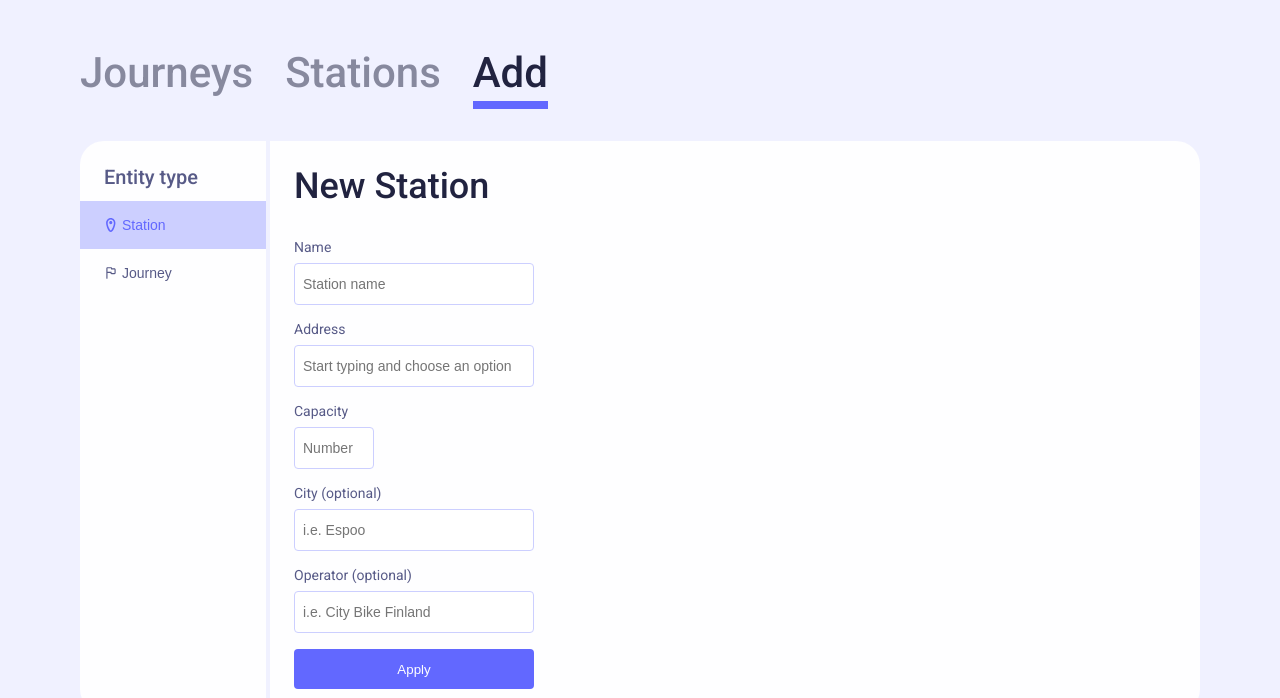
New Station Form › errors if user has entered the address but did not select an option from autocomplete
Type "Test station" into the field with test id "input-name". click: (414, 284)
box: [294,263,534,305]
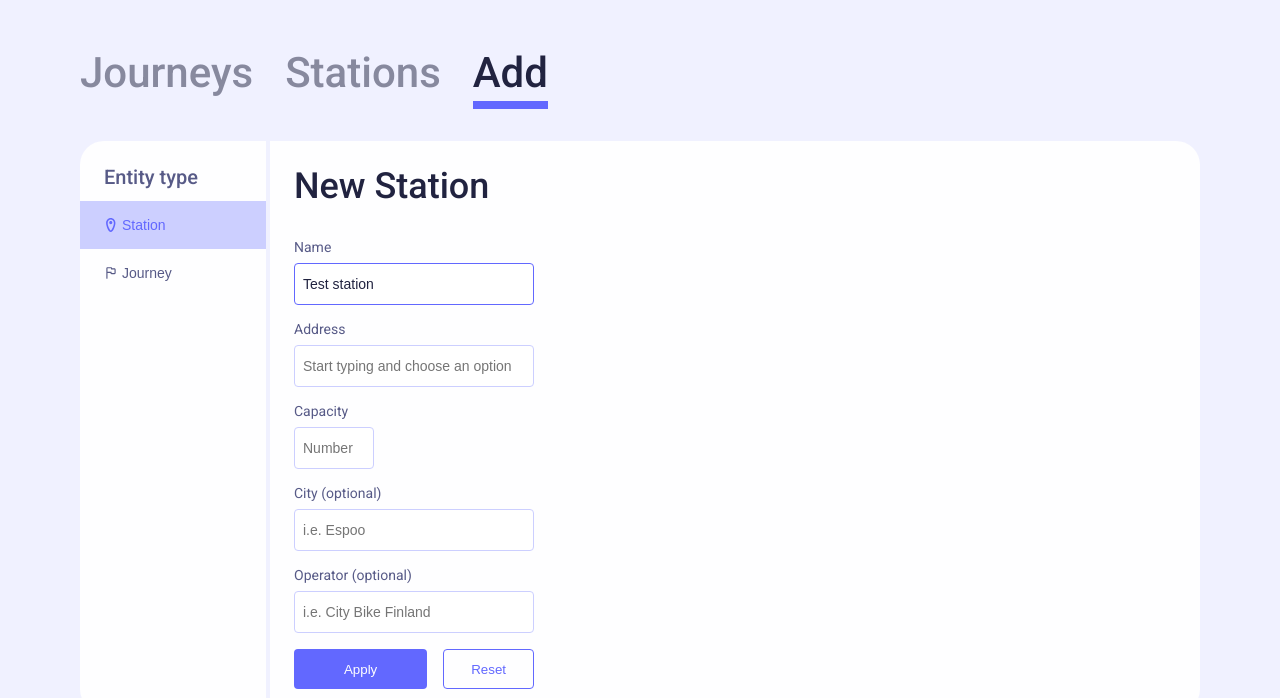
Type "12" into the field with test id "input-capacity". click: (334, 448)
box: [294,427,374,469]
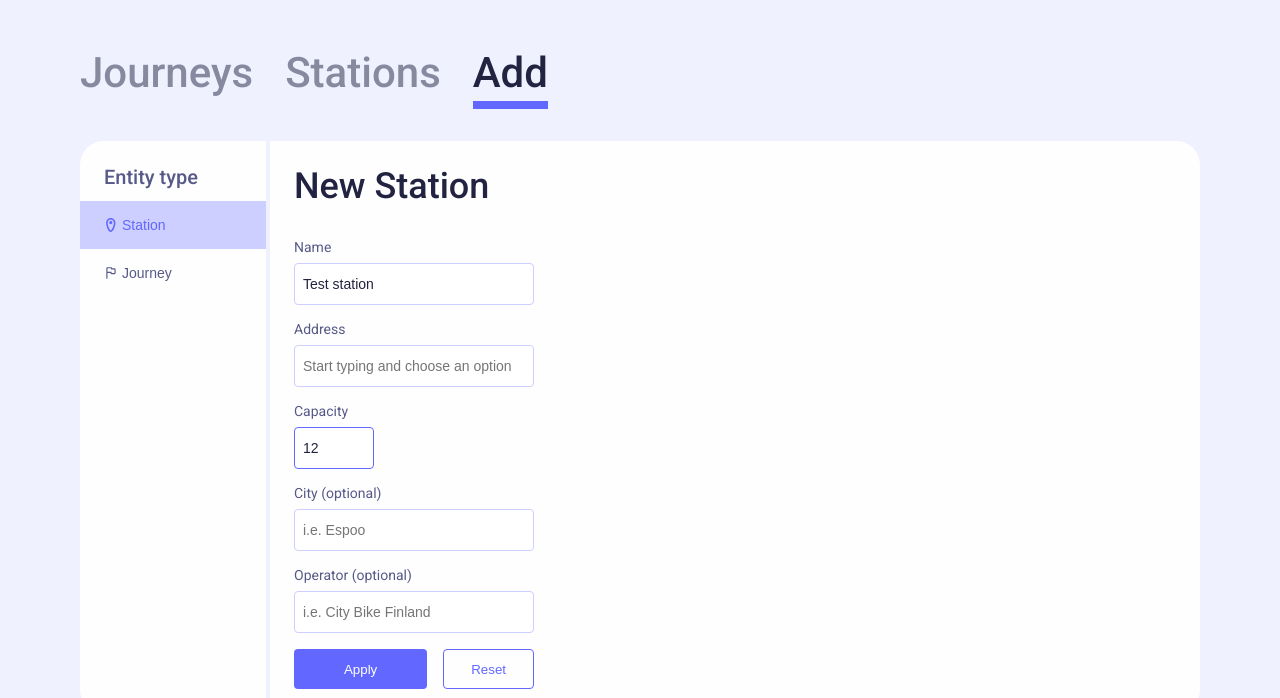
Type "test" into the field with test id "input-address". click: (414, 366)
box: [294,345,534,387]
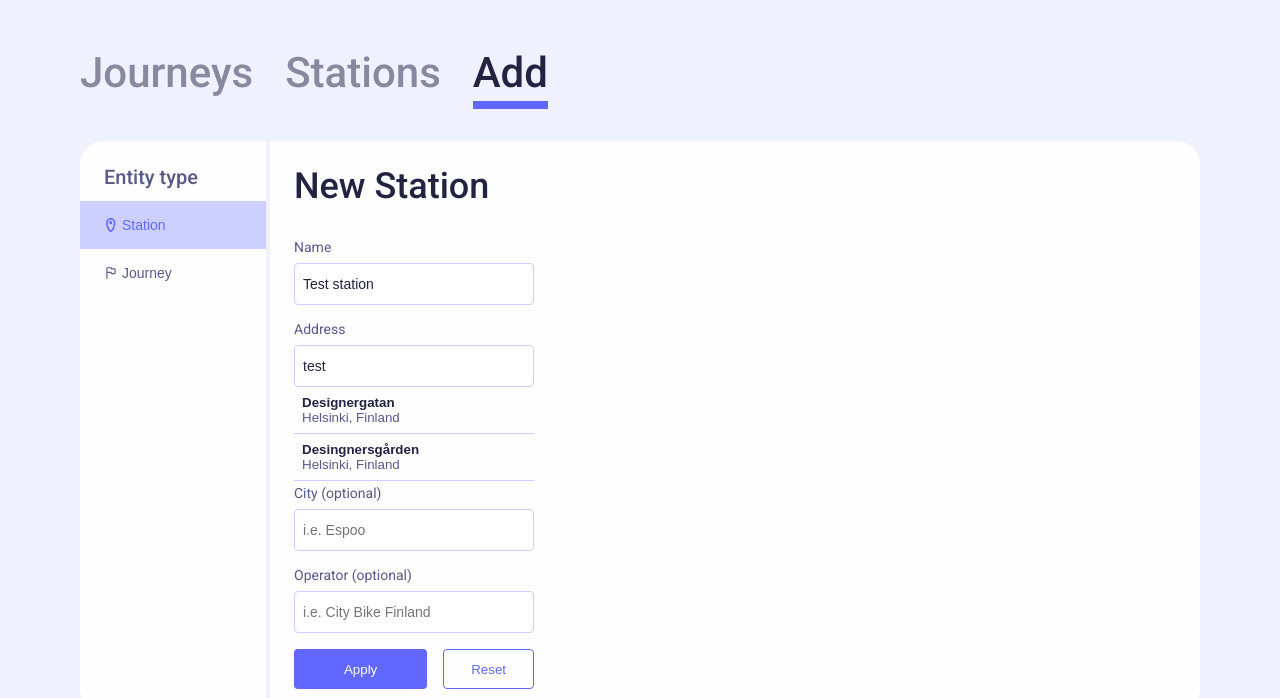
Click the submit button. click: (361, 669)
box: [294,649,427,689]
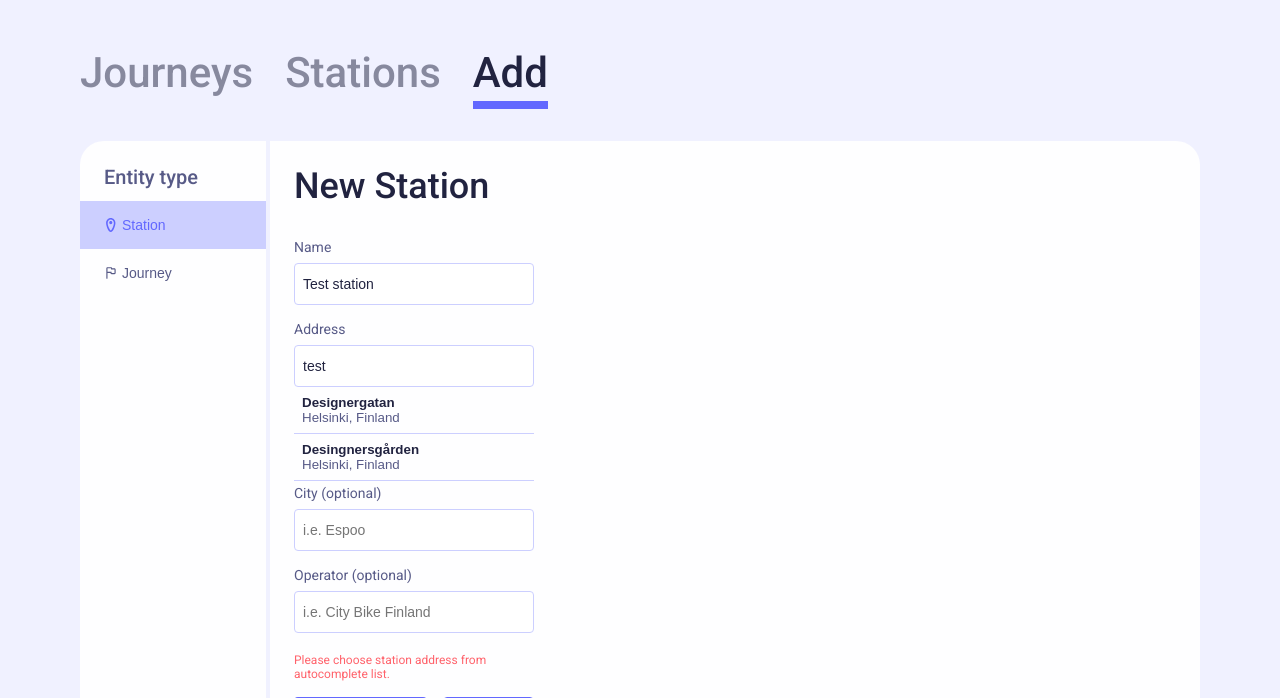
Expected: the text "Please choose station address from autocomplete list." is shown, [294,653,486,681]
